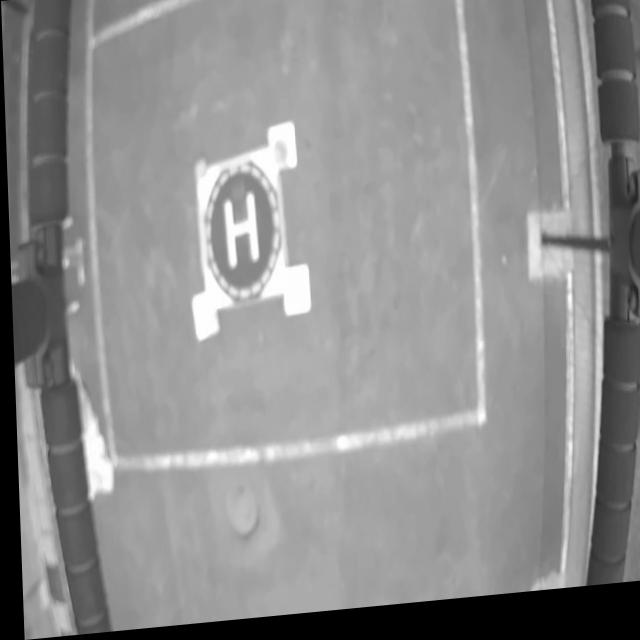Helipad: (220, 193, 257, 273)
